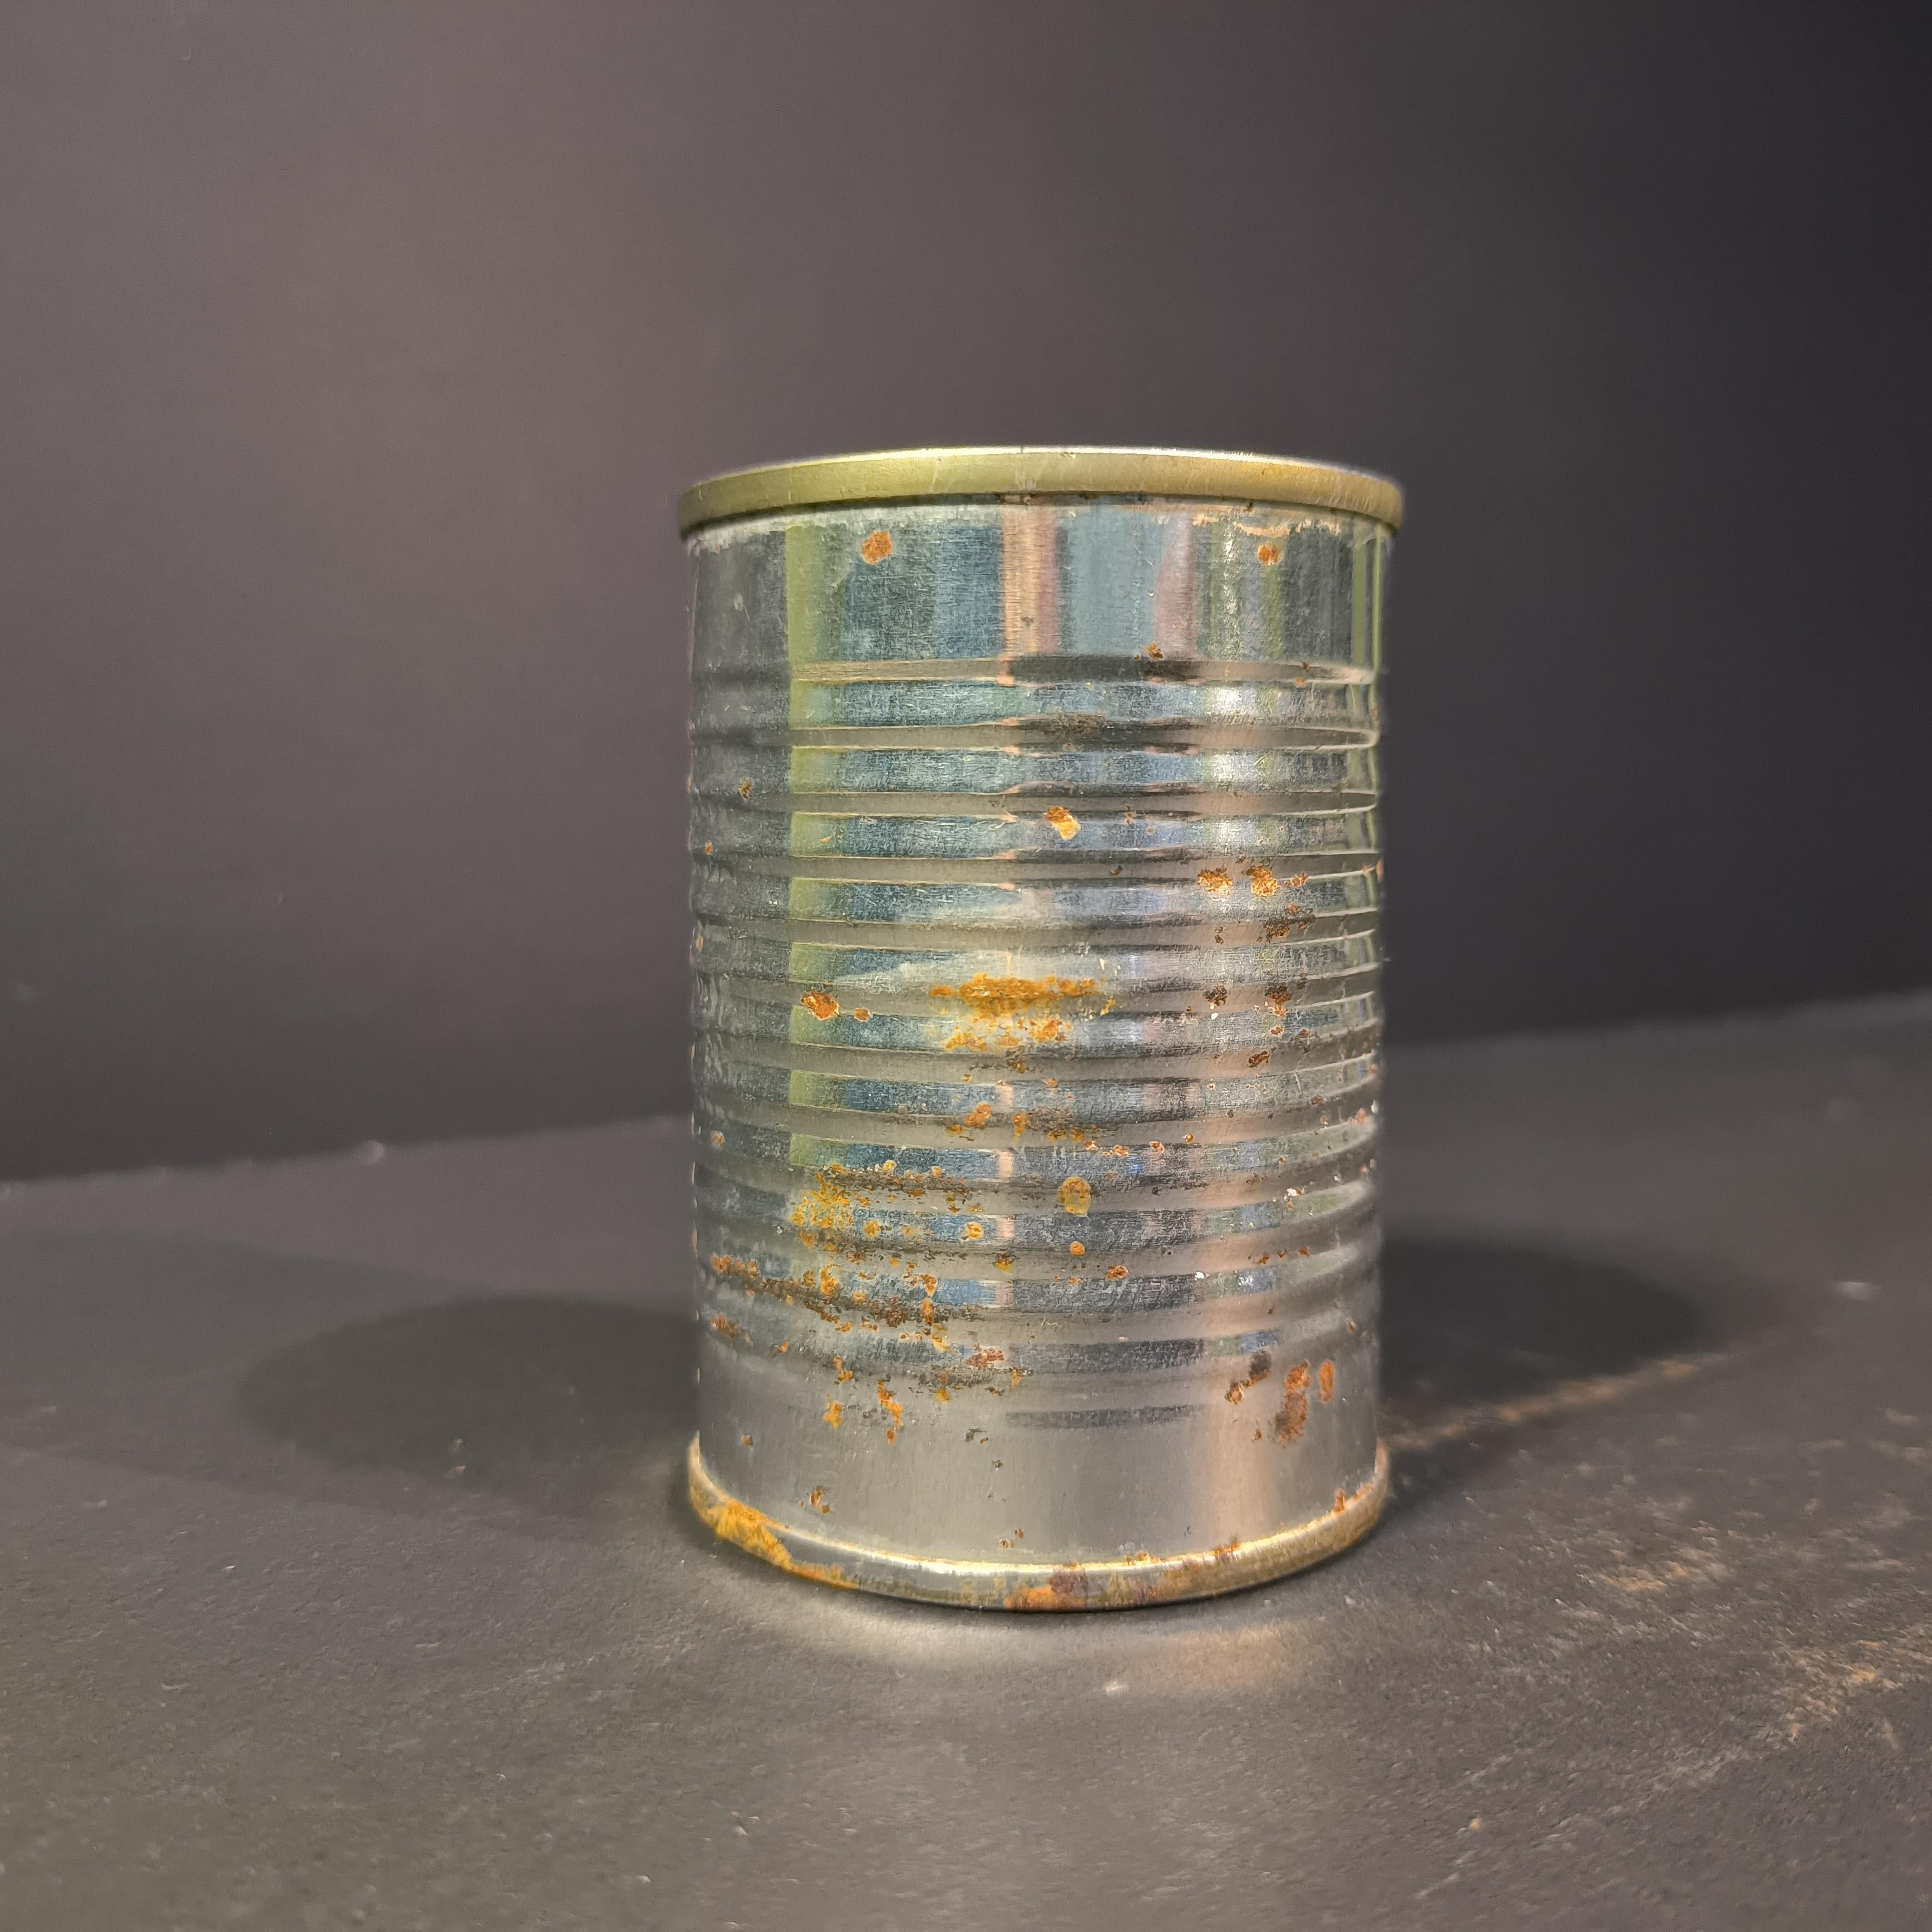Rusted: (642, 423, 1449, 1647)
